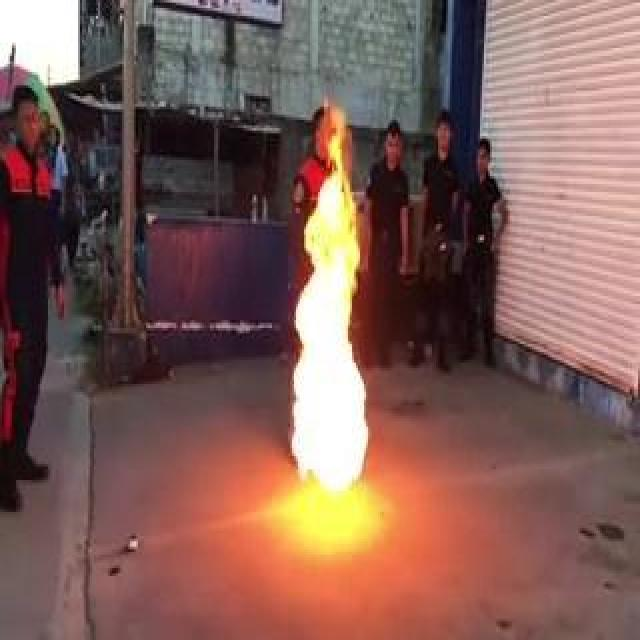Fire: (271, 184, 383, 499)
